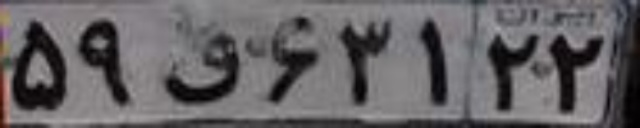1: (414, 16, 446, 106)
2: (546, 31, 607, 116), (485, 32, 539, 113)
3: (337, 16, 396, 106)
5: (11, 18, 73, 111)
6: (265, 16, 323, 104)
9: (76, 17, 131, 108)
ghaf: (151, 20, 243, 108)
